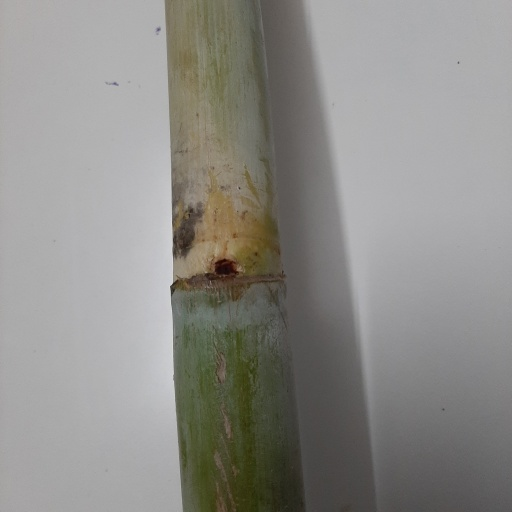Damage_Bud: (213, 257, 240, 275)
